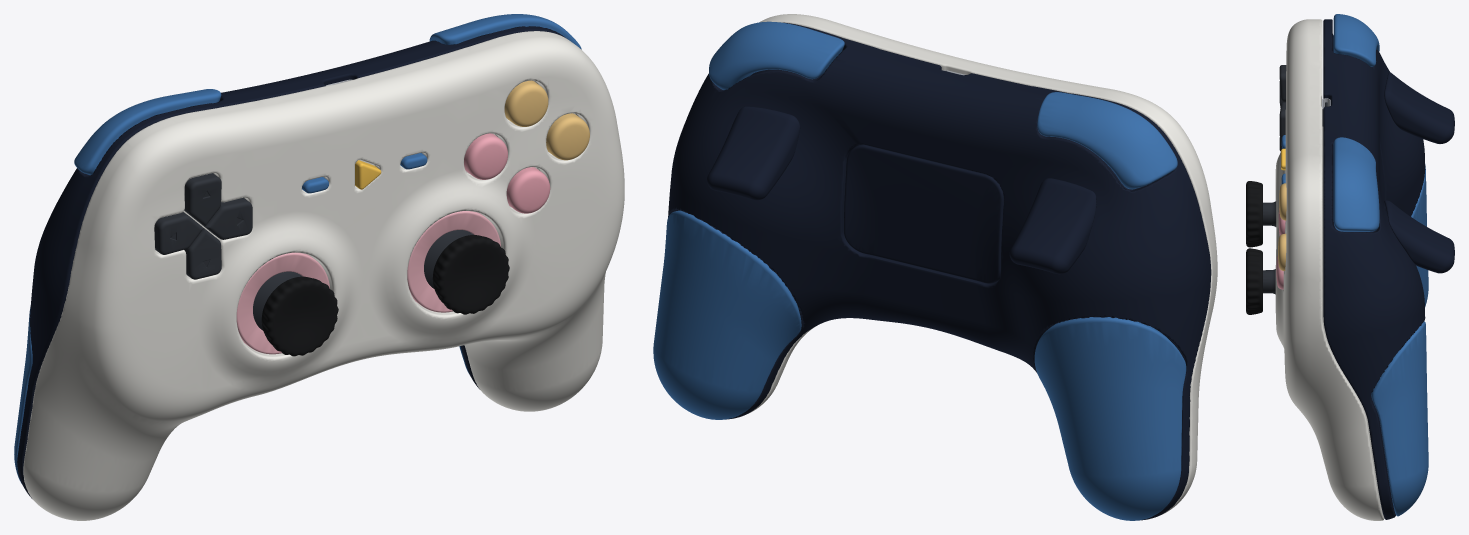
Rendered from gamepad.glb.
3 views of the same model, side by side, from view 1: azimuth 30°, elevation 25°; view 2: azimuth 150°, elevation 25°; view 3: azimuth 270°, elevation 25° (orthographic). The views are drawn at different scales.
Parts seen in each view (by area): view 1: Shell_Front, Shell_Rear, Stick_L_Cap, Stick_R_Cap, Bumper_L, Stick_R_Collar, Stick_L_Collar, Bumper_R, Button_East, Button_South, Button_West, Button_North (+7 smaller); view 2: Shell_Rear, Grip_Panel_L, Grip_Panel_R, Battery_Door, Shell_Front, Bumper_L, Trigger_R, Bumper_R, Trigger_L; view 3: Shell_Rear, Shell_Front, Grip_Panel_R, Bumper_R, Trigger_L, Trigger_R, Bumper_L, Stick_L_Cap, Stick_R_Cap, Grip_Panel_L, Stick_L_Shaft, Stick_R_Shaft (+2 smaller).
Boxes of the visible parts, x1=… form: Shell_Front: x1=23, y1=31, x2=624, y2=520; Shell_Rear: x1=17, y1=26, x2=566, y2=498; Stick_L_Cap: x1=261, y1=276, x2=338, y2=356; Stick_R_Cap: x1=432, y1=235, x2=509, y2=314; Bumper_L: x1=74, y1=89, x2=221, y2=175; Stick_R_Collar: x1=407, y1=211, x2=500, y2=312; Stick_L_Collar: x1=236, y1=252, x2=329, y2=354; Bumper_R: x1=429, y1=14, x2=581, y2=49; Button_East: x1=546, y1=113, x2=589, y2=160; Button_South: x1=506, y1=167, x2=550, y2=213; Button_West: x1=464, y1=133, x2=507, y2=179; Button_North: x1=504, y1=80, x2=548, y2=126; Shell_Rear: x1=668, y1=22, x2=1211, y2=520; Grip_Panel_L: x1=1034, y1=317, x2=1186, y2=520; Grip_Panel_R: x1=653, y1=210, x2=801, y2=419; Battery_Door: x1=844, y1=144, x2=1003, y2=283; Shell_Front: x1=748, y1=14, x2=1217, y2=515; Bumper_L: x1=1037, y1=92, x2=1177, y2=189; Trigger_R: x1=707, y1=106, x2=800, y2=200; Bumper_R: x1=709, y1=21, x2=844, y2=89; Trigger_L: x1=1009, y1=178, x2=1096, y2=274; Shell_Rear: x1=1323, y1=19, x2=1425, y2=519; Shell_Front: x1=1275, y1=19, x2=1384, y2=520; Grip_Panel_R: x1=1371, y1=321, x2=1428, y2=516; Bumper_R: x1=1333, y1=137, x2=1379, y2=231; Trigger_L: x1=1384, y1=72, x2=1454, y2=143; Trigger_R: x1=1384, y1=200, x2=1454, y2=273; Bumper_L: x1=1333, y1=14, x2=1379, y2=66; Stick_L_Cap: x1=1246, y1=181, x2=1262, y2=247; Stick_R_Cap: x1=1246, y1=248, x2=1262, y2=314; Grip_Panel_L: x1=1411, y1=164, x2=1428, y2=306; Stick_L_Shaft: x1=1263, y1=201, x2=1276, y2=226; Stick_R_Shaft: x1=1263, y1=269, x2=1275, y2=294.
Bounding box in the file's own units: 0.1574 × 0.1095 × 0.0614.
